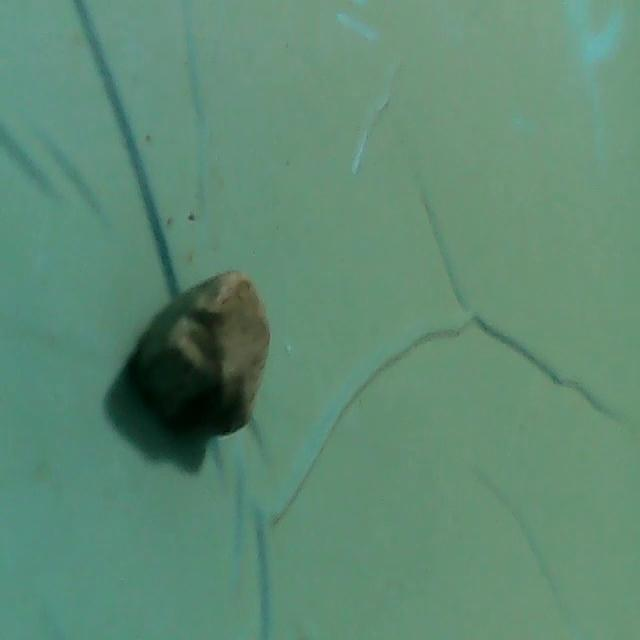rock: (124, 260, 285, 450)
